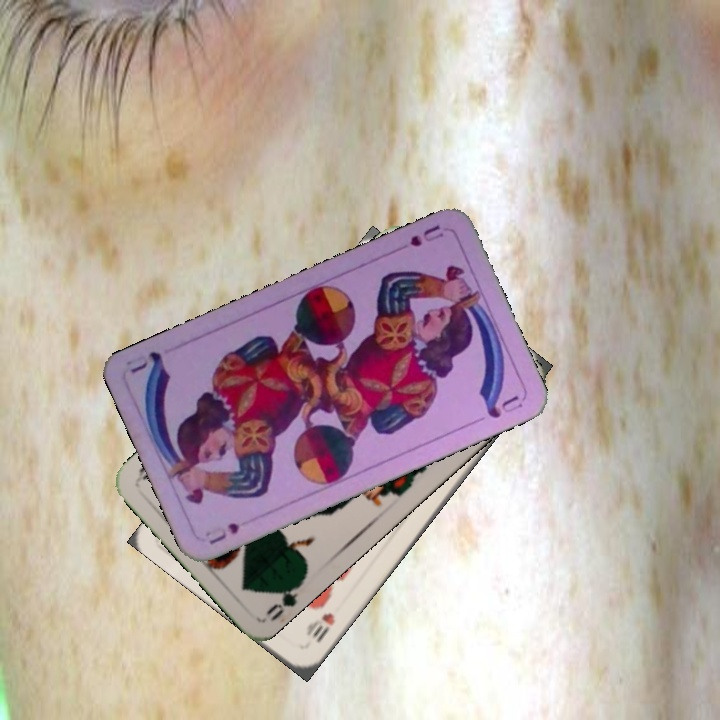GO: (262, 574, 307, 624)
H10: (302, 608, 338, 646)
SU: (200, 518, 242, 548), (405, 221, 447, 250)
